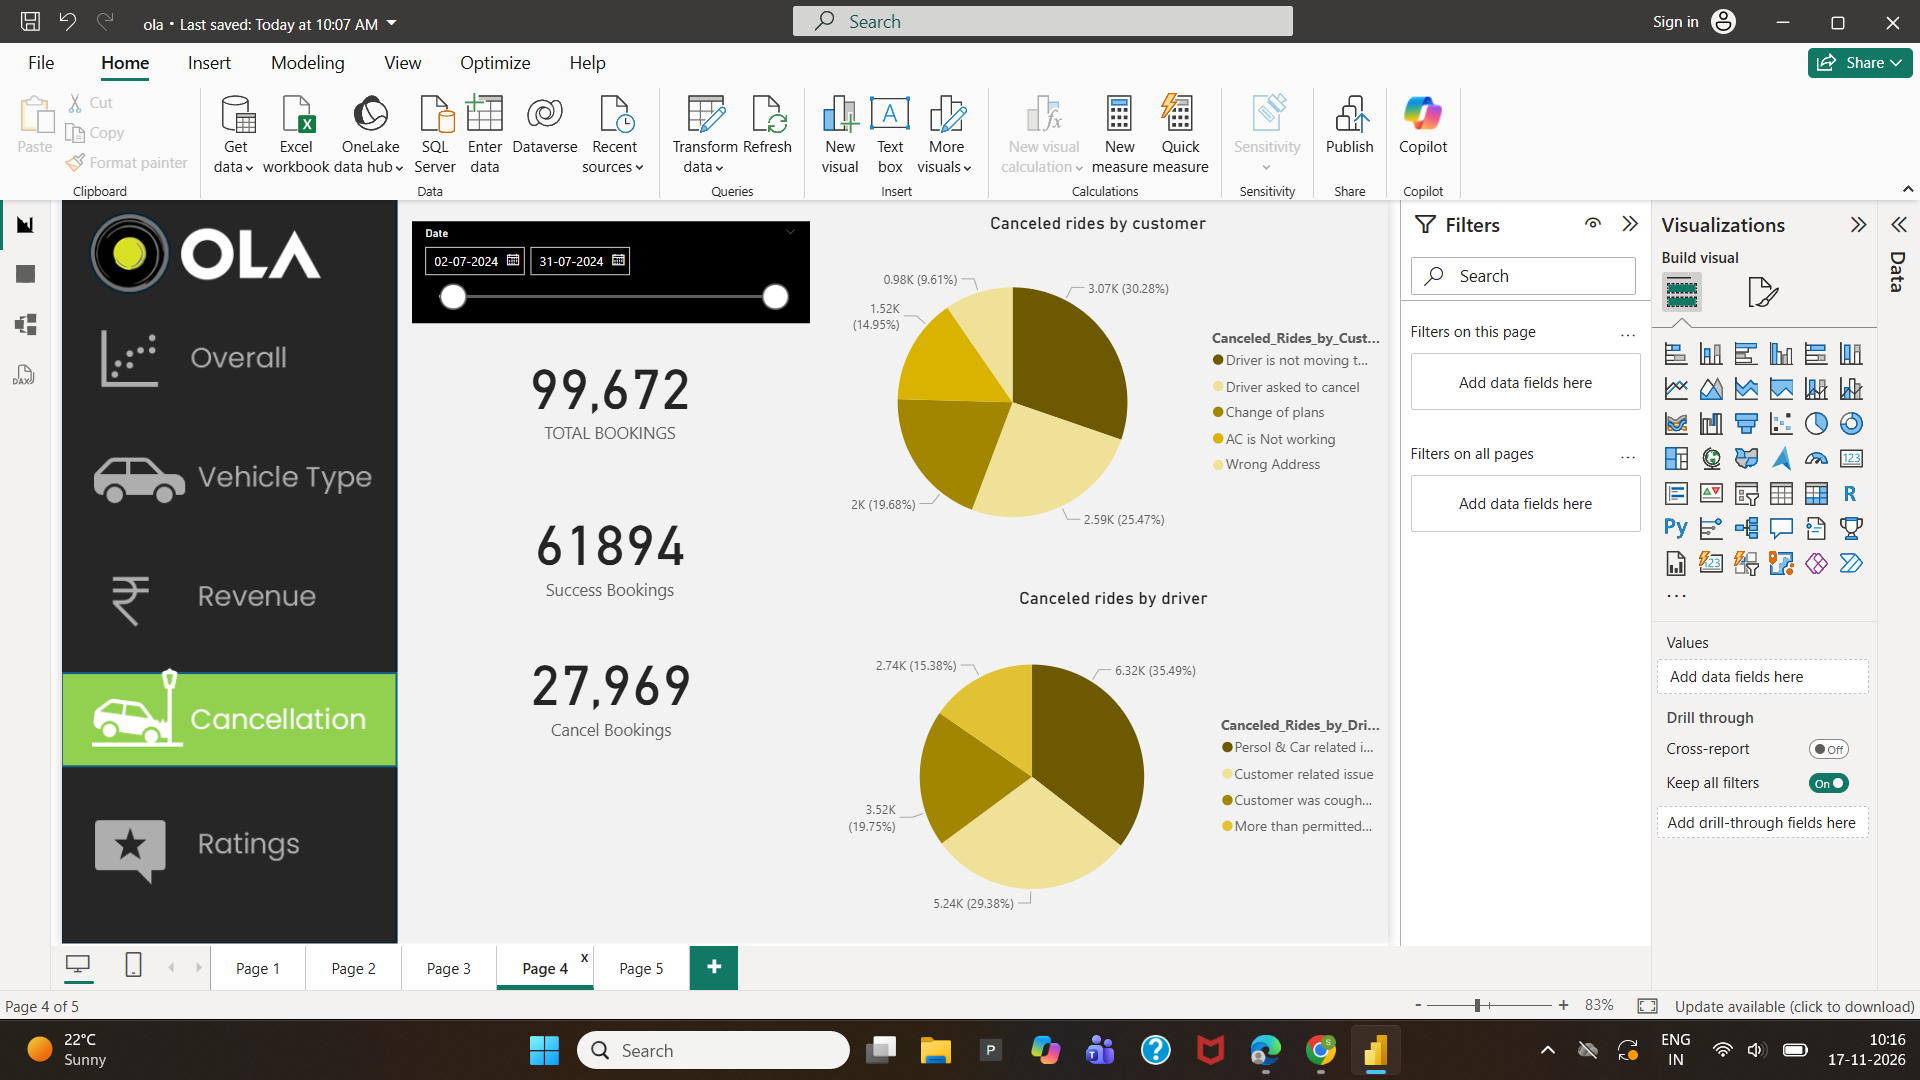

What the dashboard file says about the page in this screenshot:
{"tool":"powerbi","page":{"name":"Page 4","canvas":[1280,720],"ordinal":3},"visuals":[{"type":"pieChart","title":"Canceled rides by customer","fields":{"Category":["Bookings-July.Canceled_Rides_by_Customer"],"Y":["CountNonNull(Bookings-July.Canceled_Rides_by_Customer)"]},"box":[720.2,12.1,559.8,347.5],"z":0},{"type":"pieChart","title":" Canceled rides by driver","fields":{"Category":["Bookings-July.Canceled_Rides_by_Driver"],"Y":["CountNonNull(Bookings-July.Canceled_Rides_by_Driver)"]},"box":[749,373.8,531.3,346.6],"z":1000},{"type":"slicer","fields":{"Values":["Bookings-July.Date"]},"box":[337.6,20.6,382.8,98.8],"z":2000},{"type":"card","title":"Total Bookings","fields":{"Values":["CountNonNull(Bookings-July.Booking_ID)"]},"box":[337.8,119.4,382.4,133.9],"z":3000},{"type":"card","title":"Total Bookings","fields":{"Values":["CountNonNull(Bookings-July.Booking_ID)"]},"box":[338,270.7,382.4,134.6],"z":4000},{"type":"card","title":"Total Bookings","fields":{"Values":["CountNonNull(Bookings-July.Booking_ID)"]},"box":[339.4,405.3,382.4,134.6],"z":5000}]}

Visuals, with their boxes on the page's 1280x720 design canvas (x1, y1, x2, y2). These are canvas units, not pixel positions in the 1920x1080 screenshot, which may show the page scaled, cropped or inside an application window:
"Canceled rides by customer" pieChart: select_region(720, 12, 1280, 360)
" Canceled rides by driver" pieChart: select_region(749, 374, 1280, 720)
slicer - Bookings-July.Date: select_region(338, 21, 720, 119)
"Total Bookings" card: select_region(338, 119, 720, 253)
"Total Bookings" card: select_region(338, 271, 720, 405)
"Total Bookings" card: select_region(339, 405, 722, 540)
